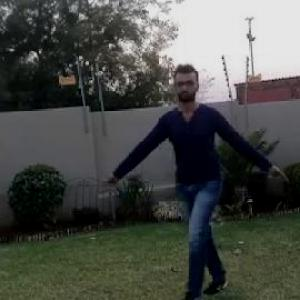land: (107, 63, 286, 299)
